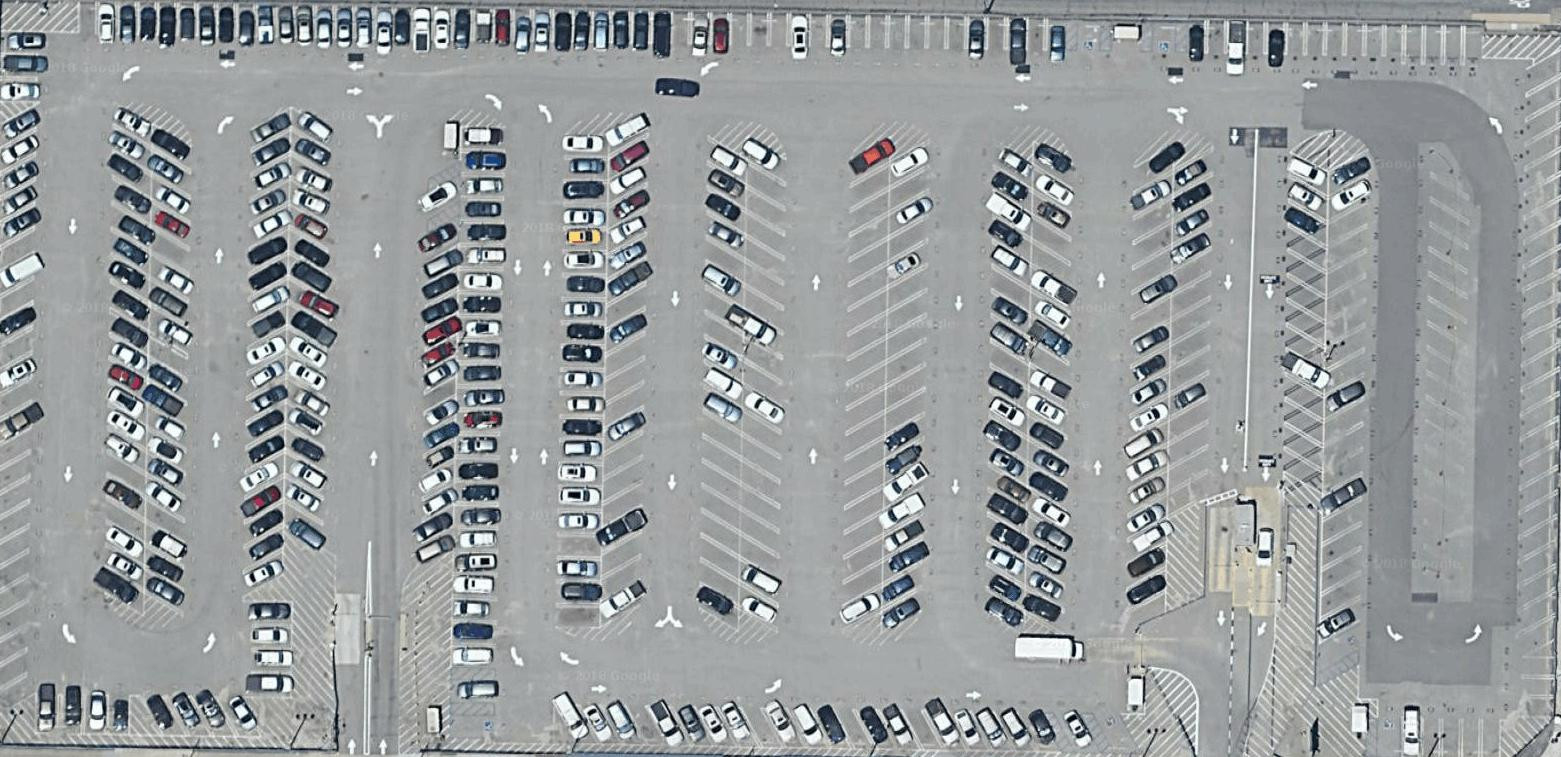parkingspot: (76, 0, 1069, 62), (1313, 144, 1371, 690), (449, 126, 507, 670), (95, 101, 155, 619), (1513, 47, 1561, 663), (1023, 138, 1082, 638), (552, 132, 611, 630), (598, 110, 653, 630), (693, 132, 748, 635), (737, 133, 791, 635), (548, 700, 1064, 752), (142, 121, 196, 617), (239, 105, 293, 598), (880, 137, 933, 637), (839, 138, 891, 636), (983, 145, 1036, 632), (1123, 149, 1176, 635), (0, 98, 41, 712), (1418, 168, 1475, 599), (282, 105, 334, 552), (1165, 143, 1217, 524), (1278, 150, 1330, 498), (415, 213, 460, 569), (1187, 19, 1485, 70), (136, 692, 261, 738), (1375, 715, 1502, 757), (244, 600, 294, 700), (33, 688, 131, 736), (0, 30, 46, 104), (1517, 655, 1557, 718), (1090, 708, 1143, 754), (1052, 708, 1101, 754), (420, 173, 461, 225), (448, 713, 499, 741), (449, 679, 497, 705), (1074, 19, 1102, 55), (1150, 22, 1178, 56)
